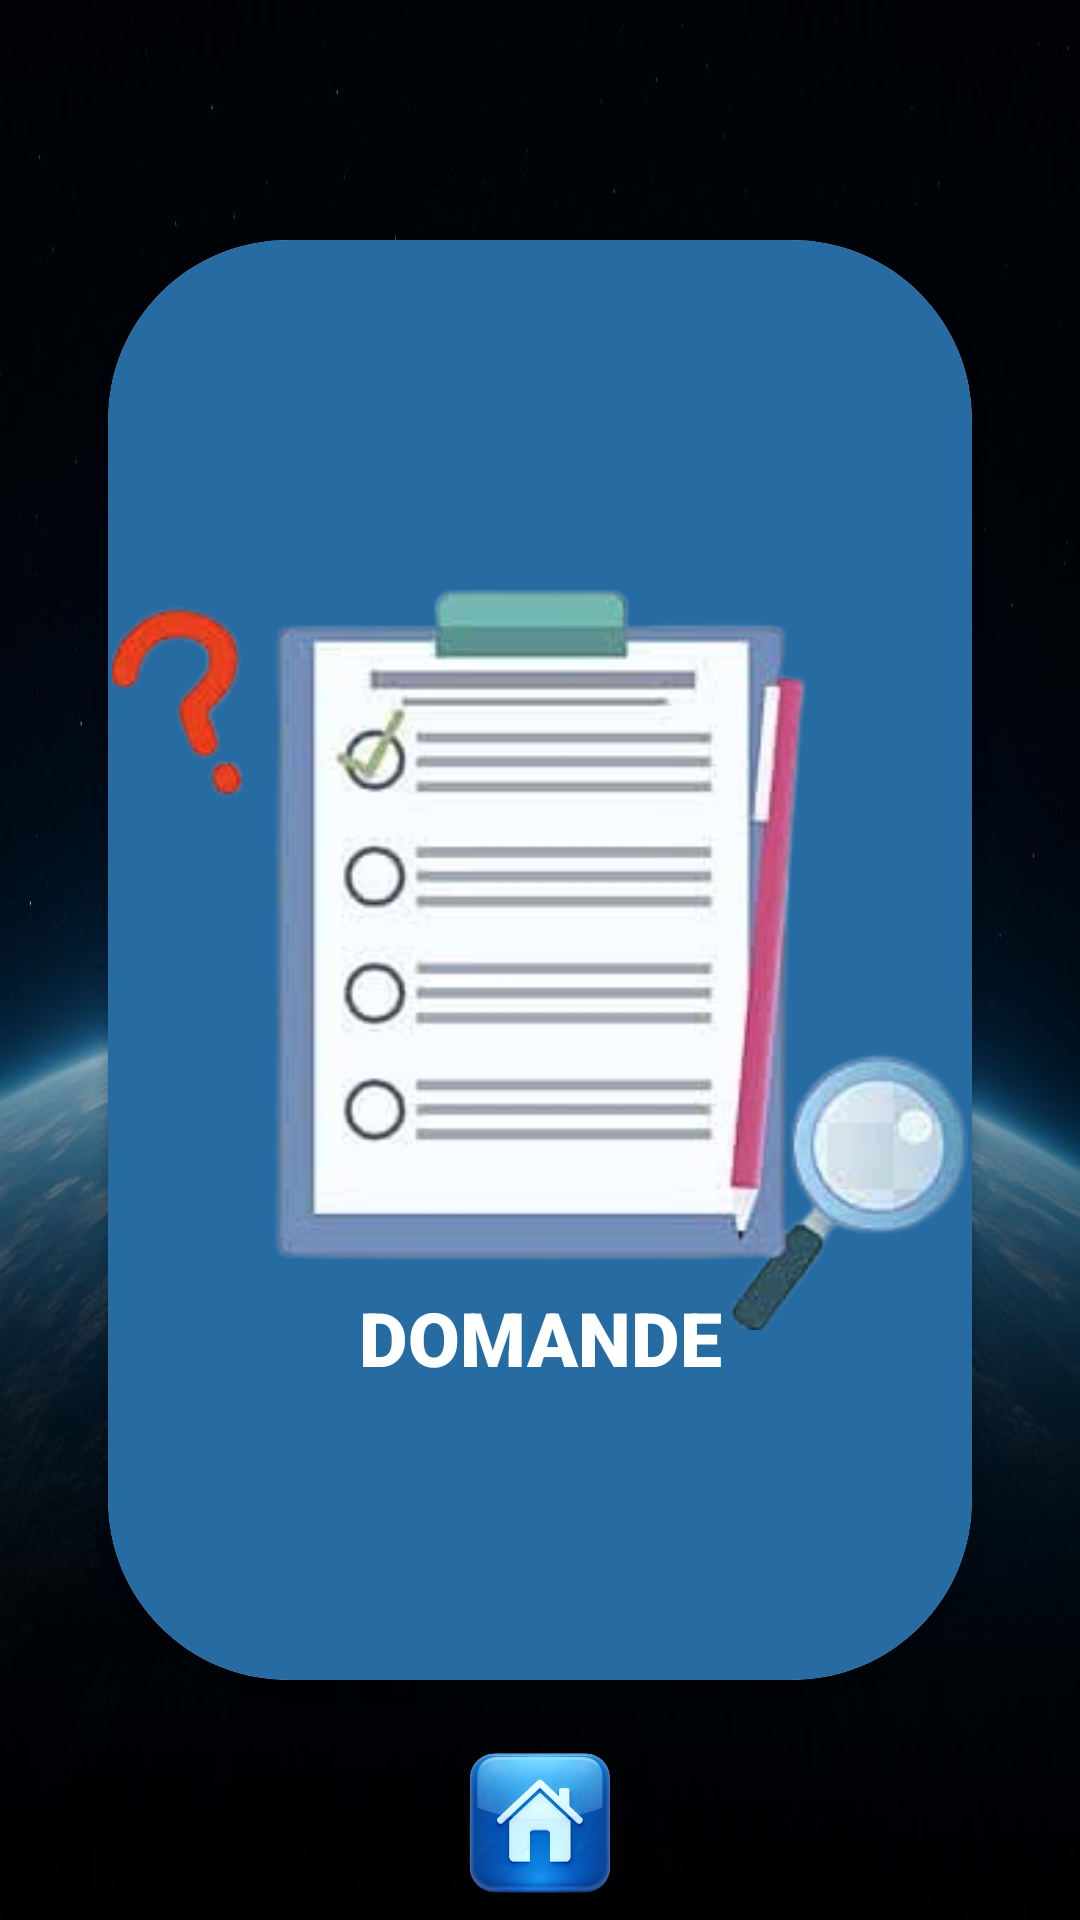

Where to tap for icons on this 1080×1920 app screen, as point (x, y):
immagine home: point (540, 1823)
